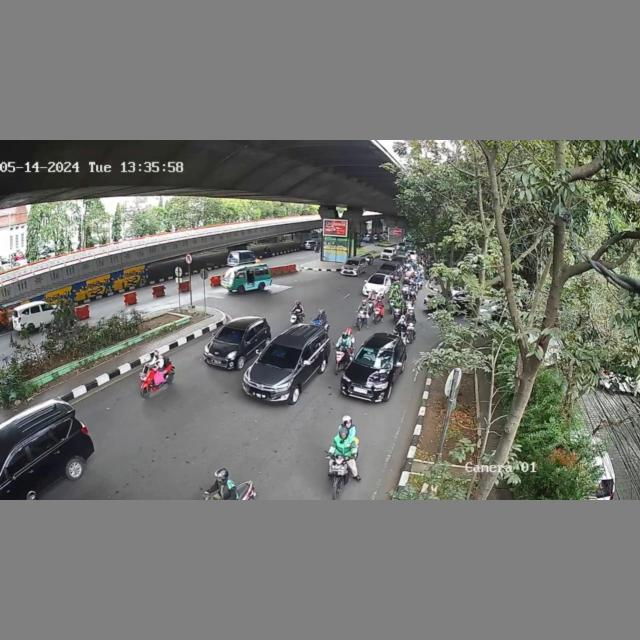windshield: (260, 342, 305, 371), (355, 346, 393, 368), (213, 326, 247, 346), (366, 275, 385, 284)
